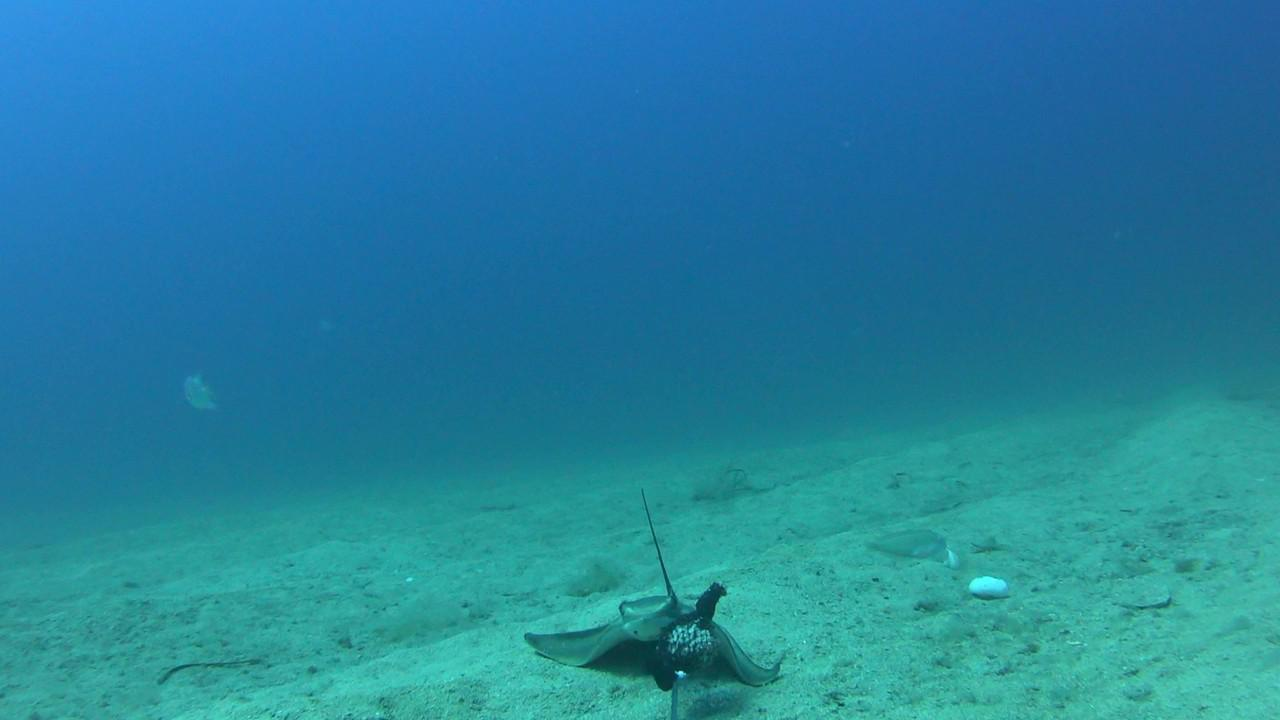balistes: (178, 368, 220, 410)
myliobatis: (520, 481, 792, 685)
raor: (856, 528, 951, 566)
